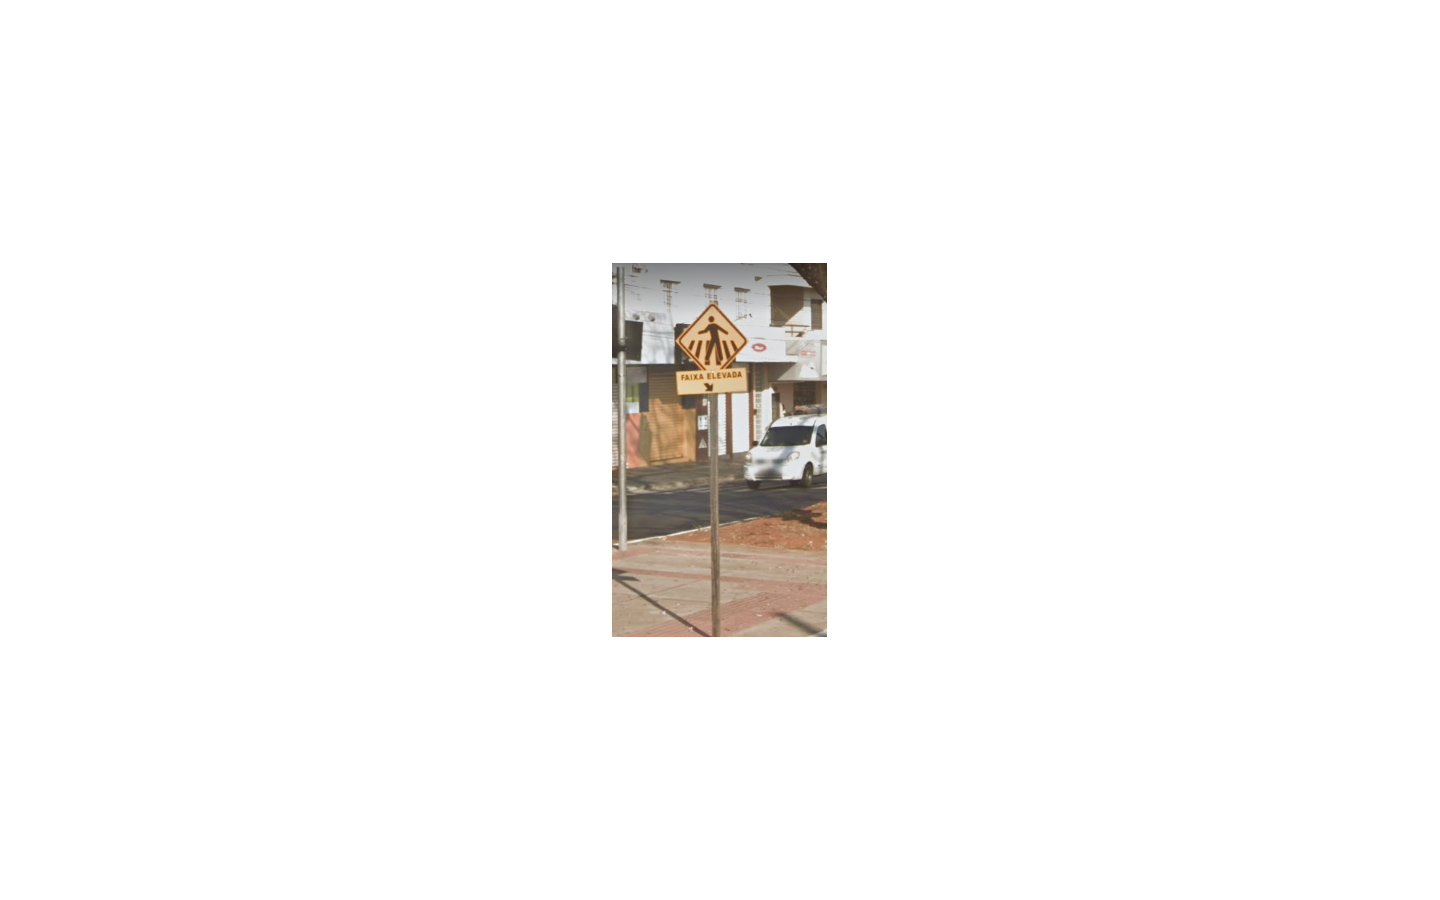telev: (674, 302, 749, 396)
